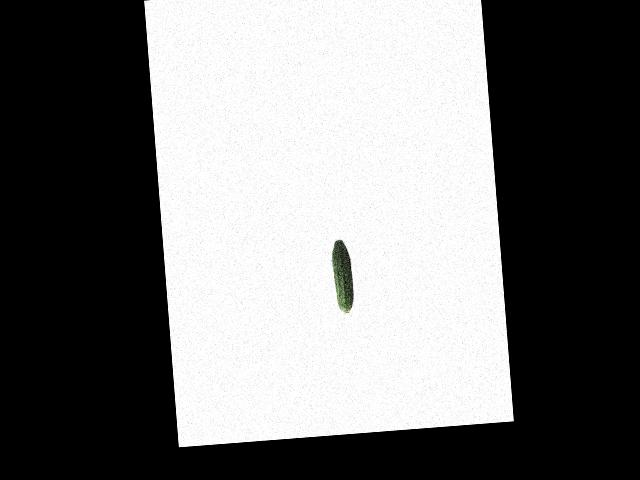cucumber: (330, 238, 355, 313)
